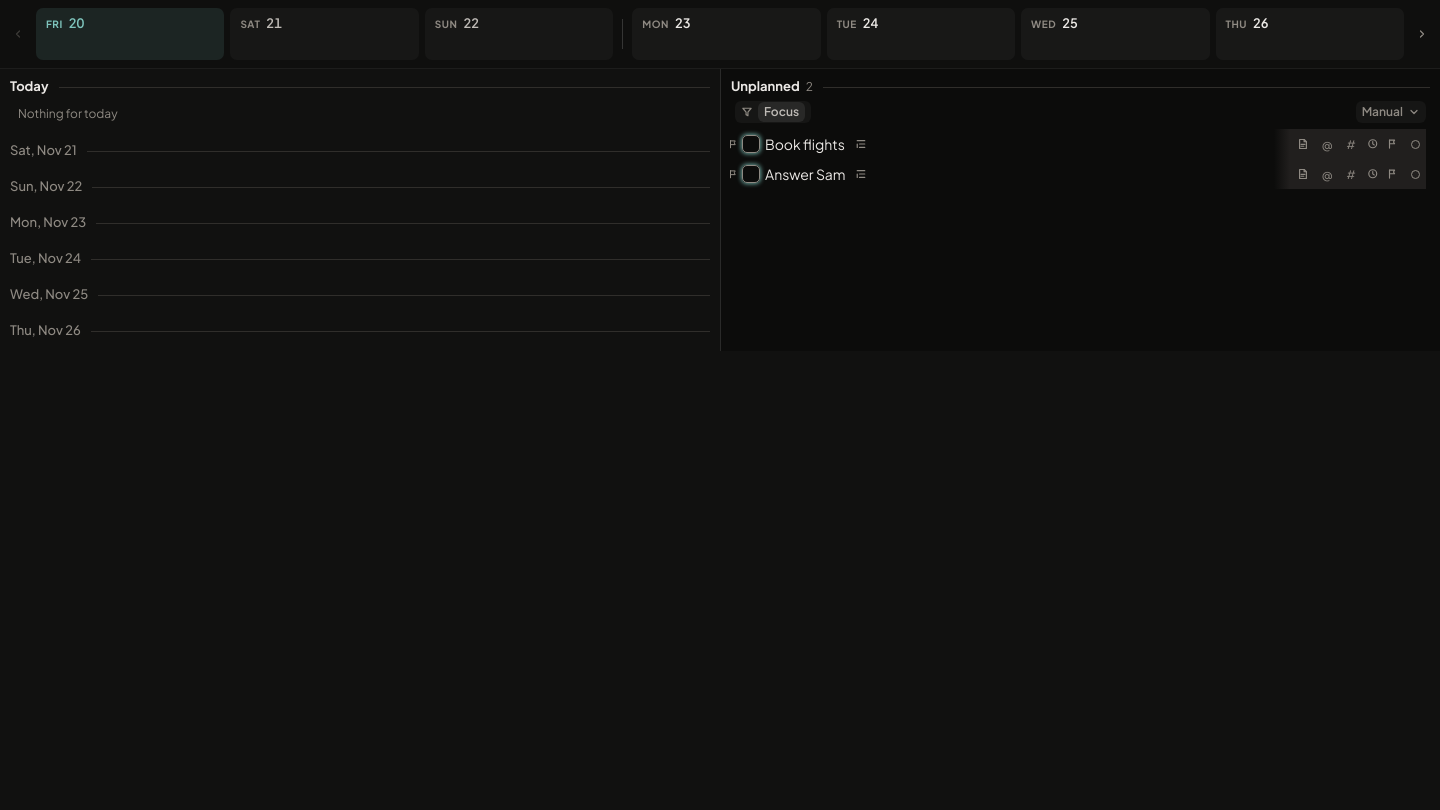
Test: the Unplanned sort › ends the filter line: Manual by default, the hand order; a pick sorts Unplanned at once, one undo step
Click the button with aria-label "Unplanned sort: Manual" at (1391, 112), box [1356,101,1426,123]
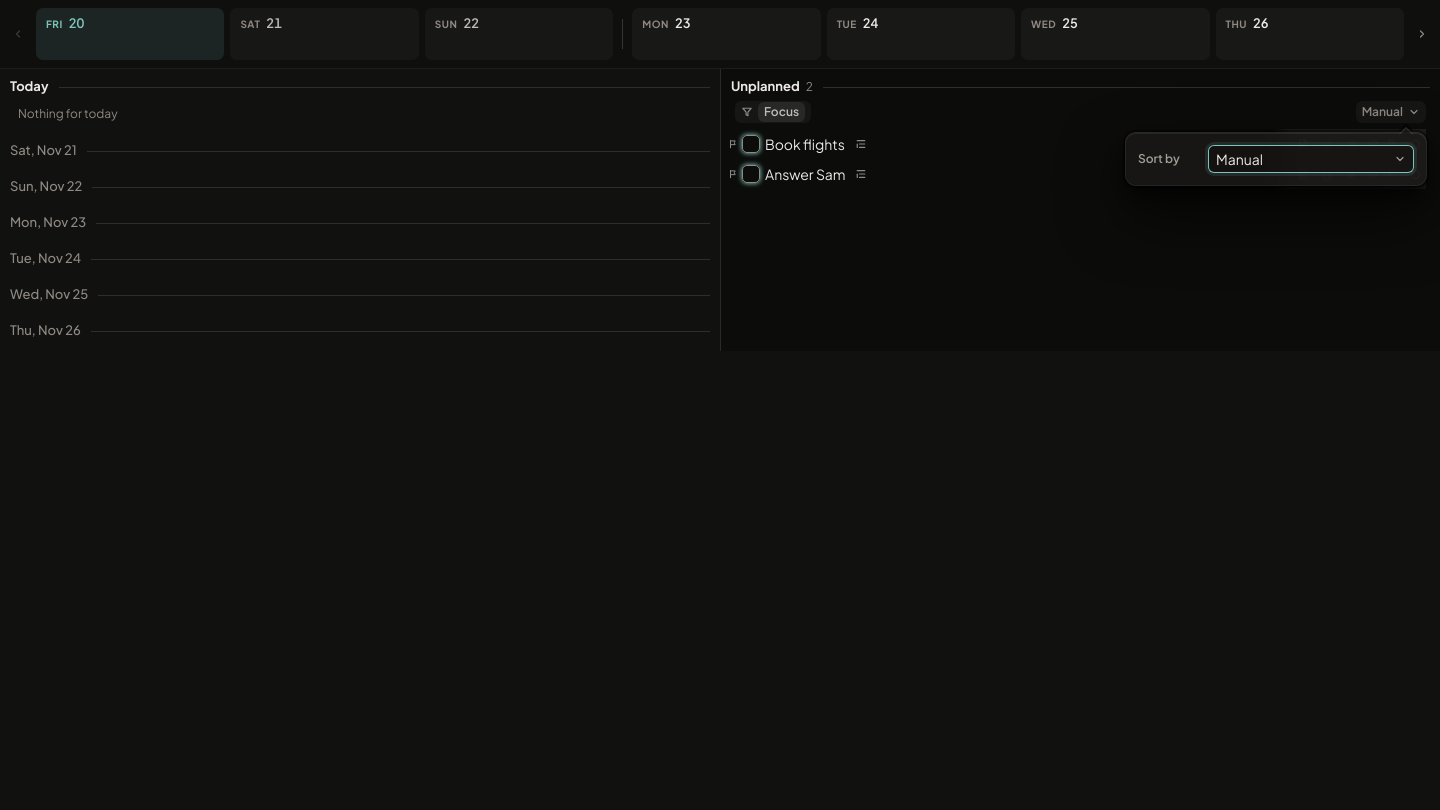
Unplanned offers a list's sorts but Planned and Completed.
Click the button named "Sort by" at (1311, 159), box [1208,145,1414,173]
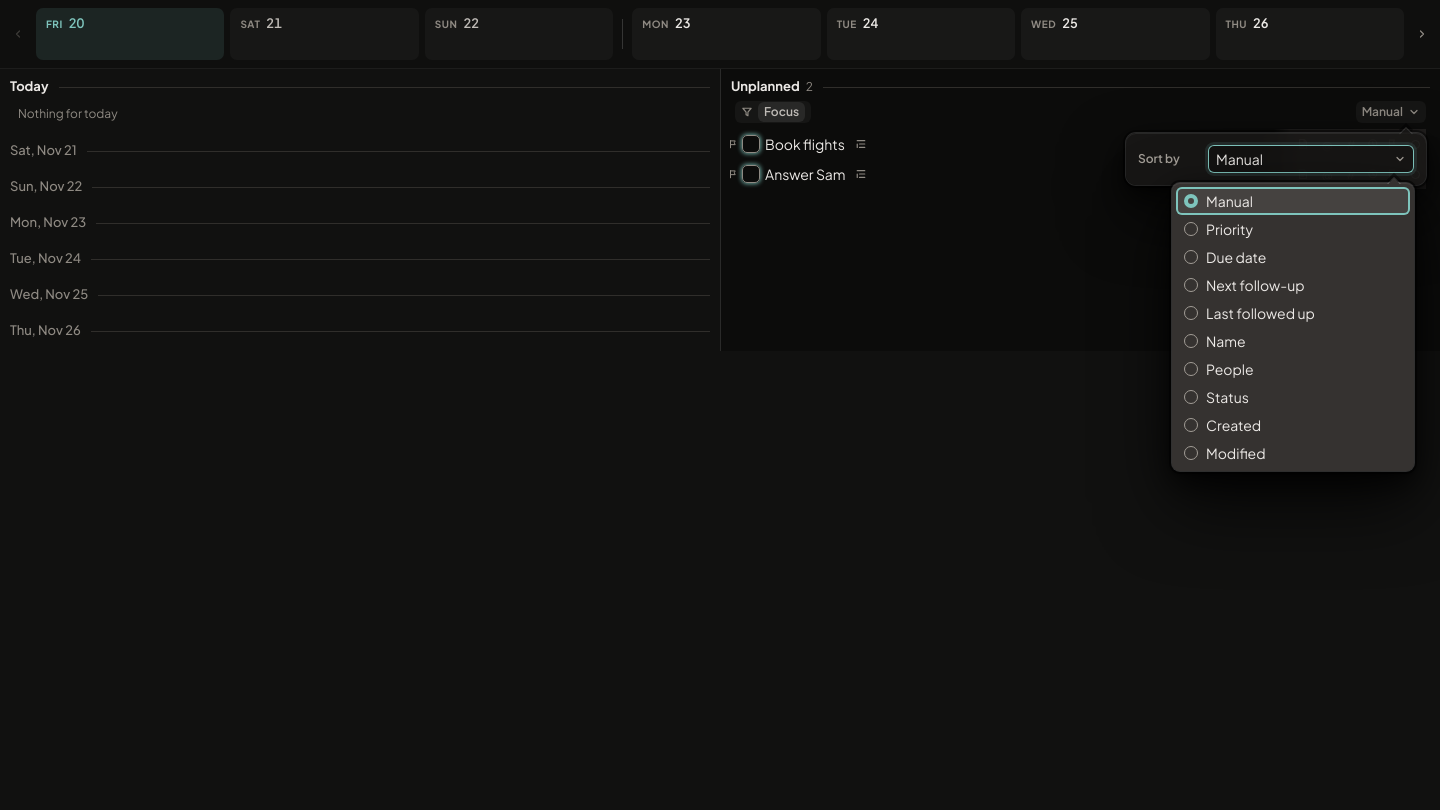
Click the menu item "Name" at (1293, 341), box [1176,327,1410,355]
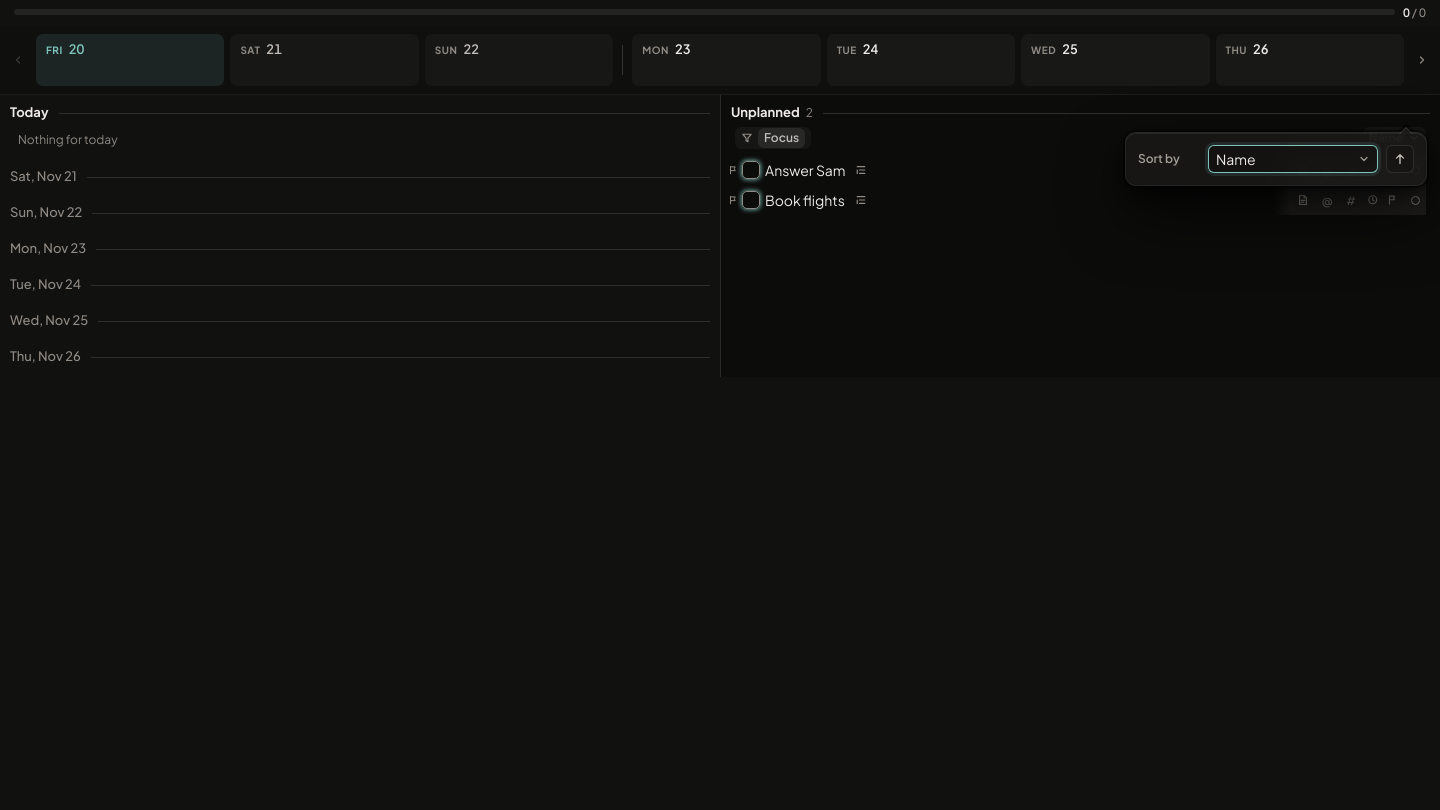
Expected: the button with aria-label "Unplanned sort: Name" is shown, [1363,127,1426,149]
